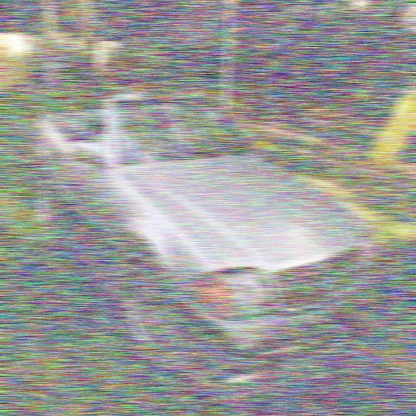Vehicle: (31, 86, 387, 394)
